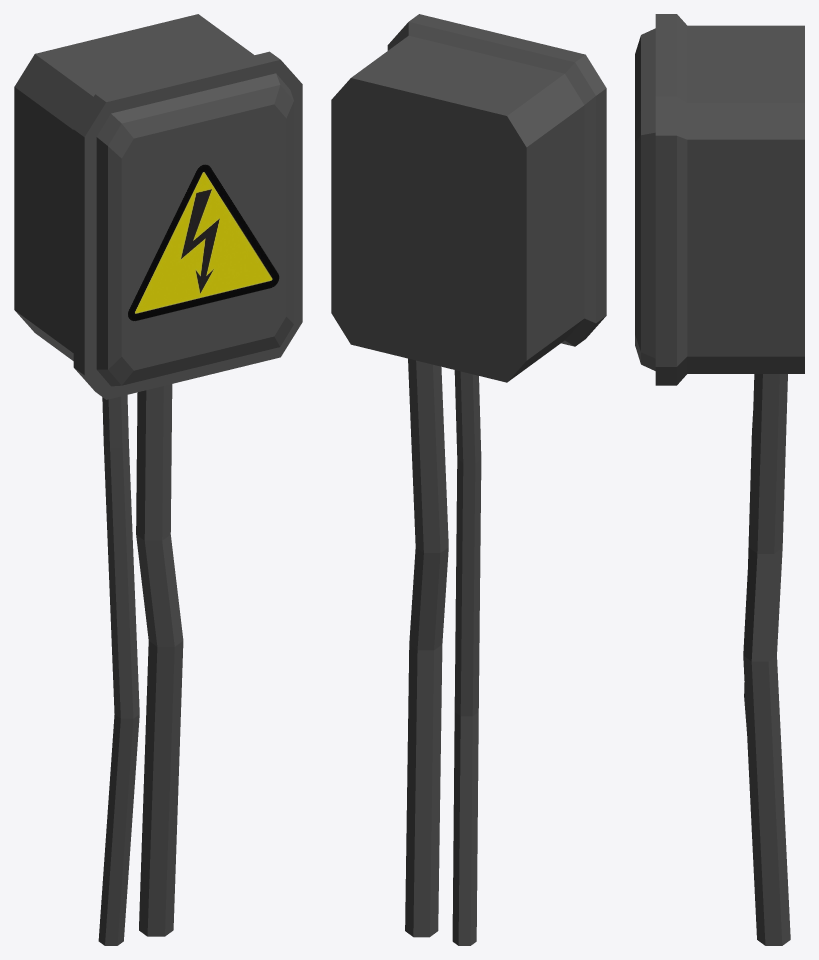
Rendered from GardenPowerBox01.fbx.
3 renders of one model, left to right at view 1: azimuth 30°, elevation 25°; view 2: azimuth 150°, elevation 25°; view 3: azimuth 270°, elevation 25°, orthographic. The views are drawn at different scales.
Visible parts, largest first — view 1: PowerBox01; view 2: PowerBox01; view 3: PowerBox01.
Part boxes in pixels (x1,y1,x2,y2): PowerBox01: (14, 14, 302, 945); PowerBox01: (331, 14, 606, 945); PowerBox01: (635, 14, 804, 945).
Size of the model in its own units: 30.38 by 120 by 21.12.
